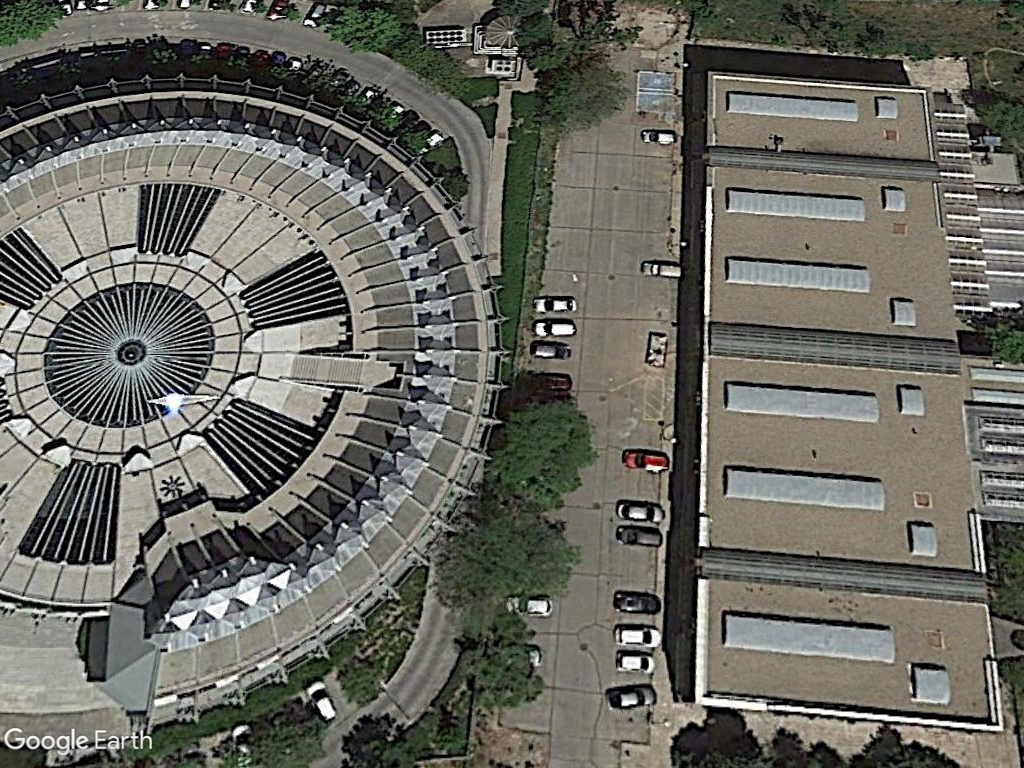car: (602, 679, 659, 710), (612, 589, 665, 616), (620, 446, 671, 474), (613, 623, 664, 650), (615, 524, 666, 549), (614, 499, 665, 523), (529, 294, 581, 315), (528, 339, 574, 362), (639, 256, 683, 280), (616, 650, 658, 675), (531, 318, 580, 338), (638, 126, 678, 147)
